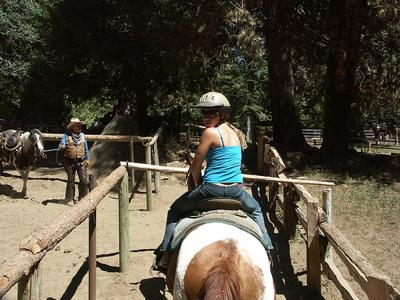person: (153, 90, 274, 274)
